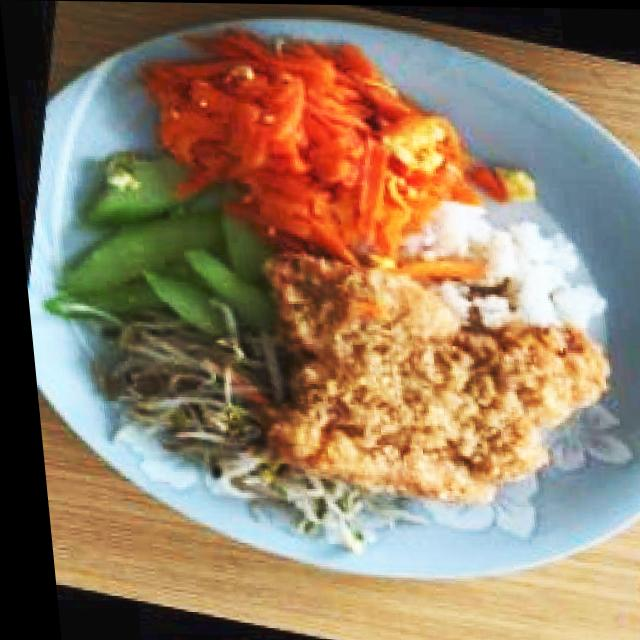carrot_eggs: (138, 29, 517, 267)
fried_chicken: (218, 255, 617, 507)
mung_bean_sprouts: (121, 331, 232, 481)
rice: (469, 224, 607, 326), (434, 204, 503, 256)
